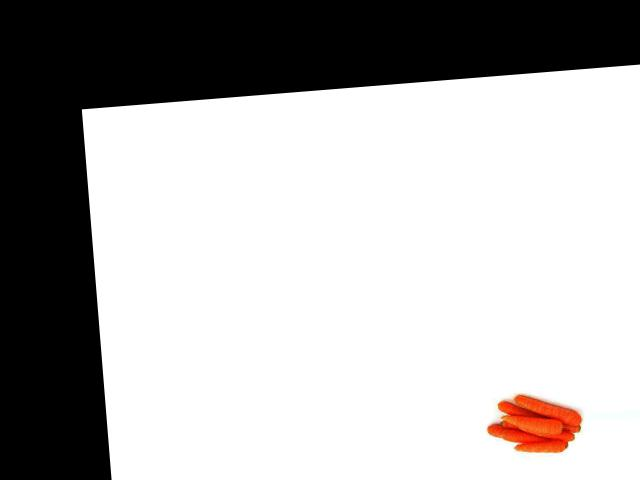carrot: (515, 388, 586, 432)
